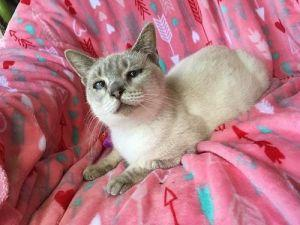siamese: (64, 22, 173, 131)
